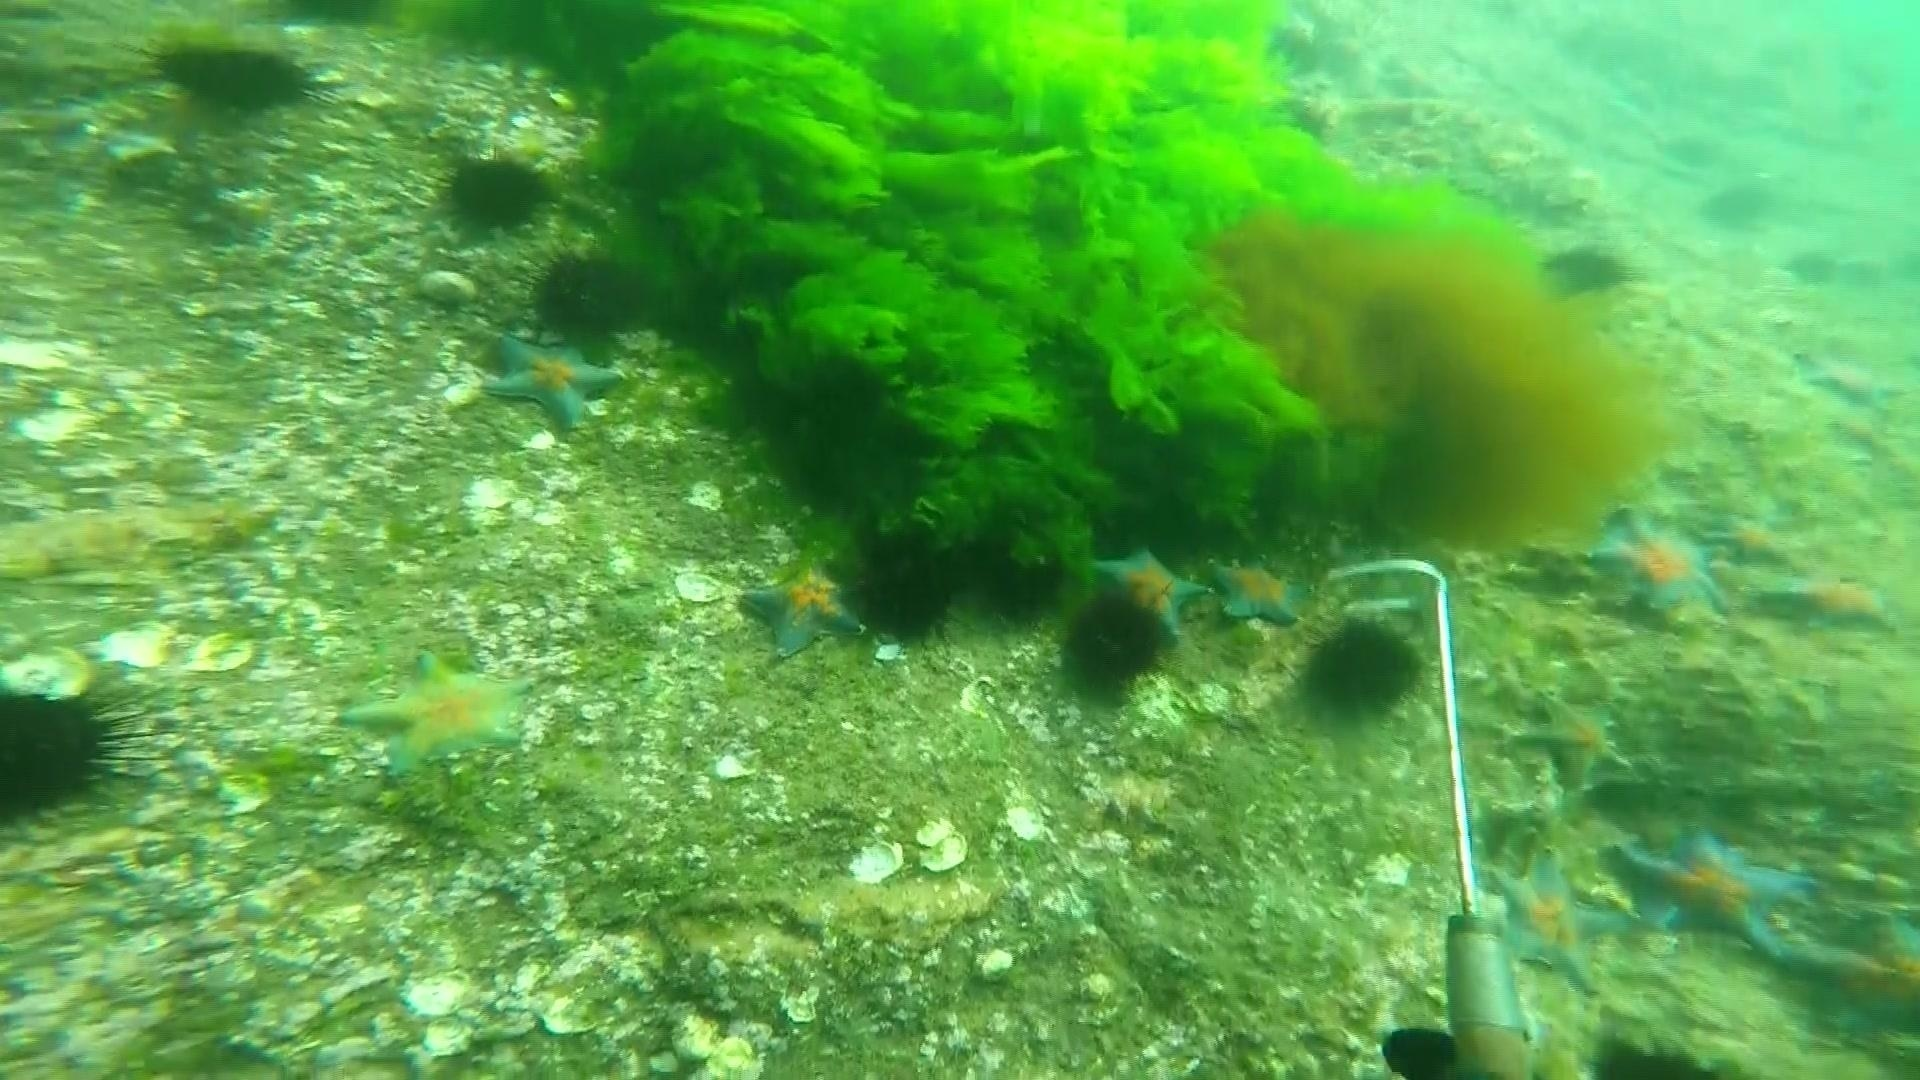echinus: (1, 673, 156, 829), (1294, 609, 1425, 727), (849, 520, 967, 647), (1054, 588, 1172, 705), (526, 244, 655, 342), (435, 148, 555, 241), (967, 545, 1060, 630), (1584, 1027, 1706, 1076), (1375, 1019, 1462, 1079), (1698, 175, 1778, 237), (1022, 186, 1092, 256), (1782, 243, 1842, 291)
scallop: (911, 818, 971, 880), (844, 840, 905, 887)
starfish: (1607, 820, 1818, 959), (338, 642, 537, 783), (1486, 847, 1629, 992), (1783, 911, 1919, 1047), (1585, 505, 1729, 626), (480, 326, 622, 434), (735, 551, 870, 662), (1509, 686, 1635, 798), (1088, 541, 1209, 644), (1754, 574, 1902, 640), (1204, 553, 1311, 632), (1791, 344, 1903, 411), (1702, 512, 1797, 572)
